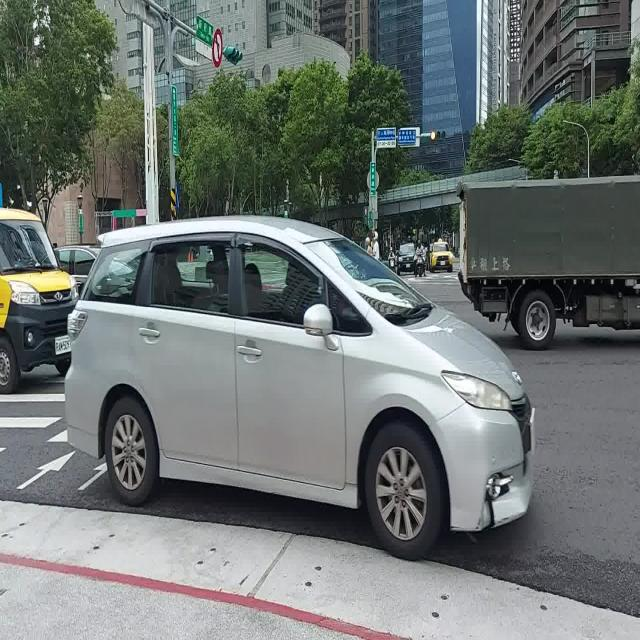car: (65, 216, 534, 560), (0, 207, 78, 393), (430, 240, 452, 272), (398, 242, 415, 272)
crosswalk: (0, 384, 71, 440)
motocycle: (414, 244, 426, 278), (388, 247, 396, 271)
trunk: (459, 176, 640, 349)
